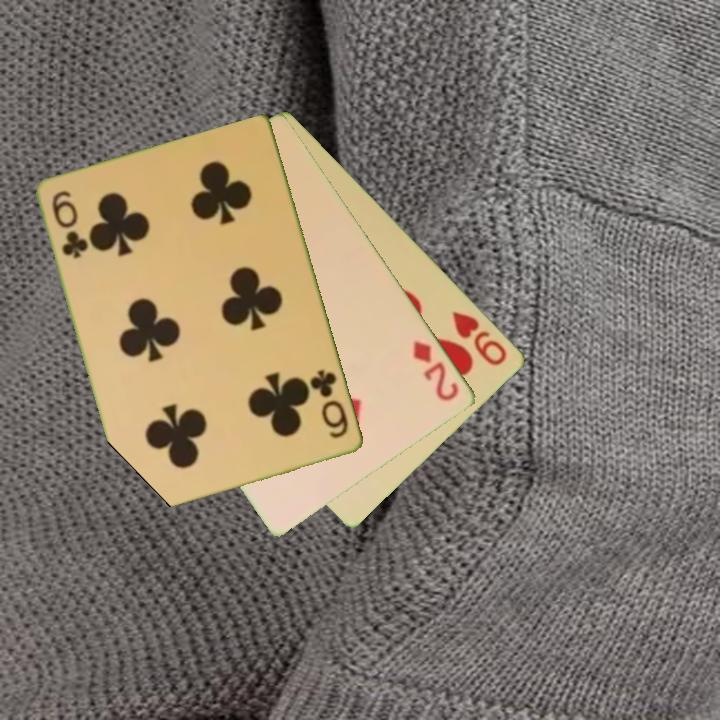2d: (410, 336, 462, 405)
6c: (307, 366, 352, 442), (49, 187, 90, 262)
9h: (449, 307, 510, 369)
